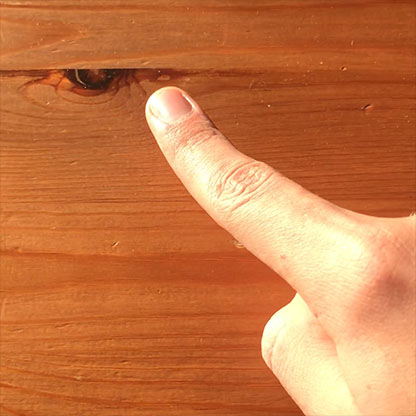fingertip: (140, 78, 207, 140)
